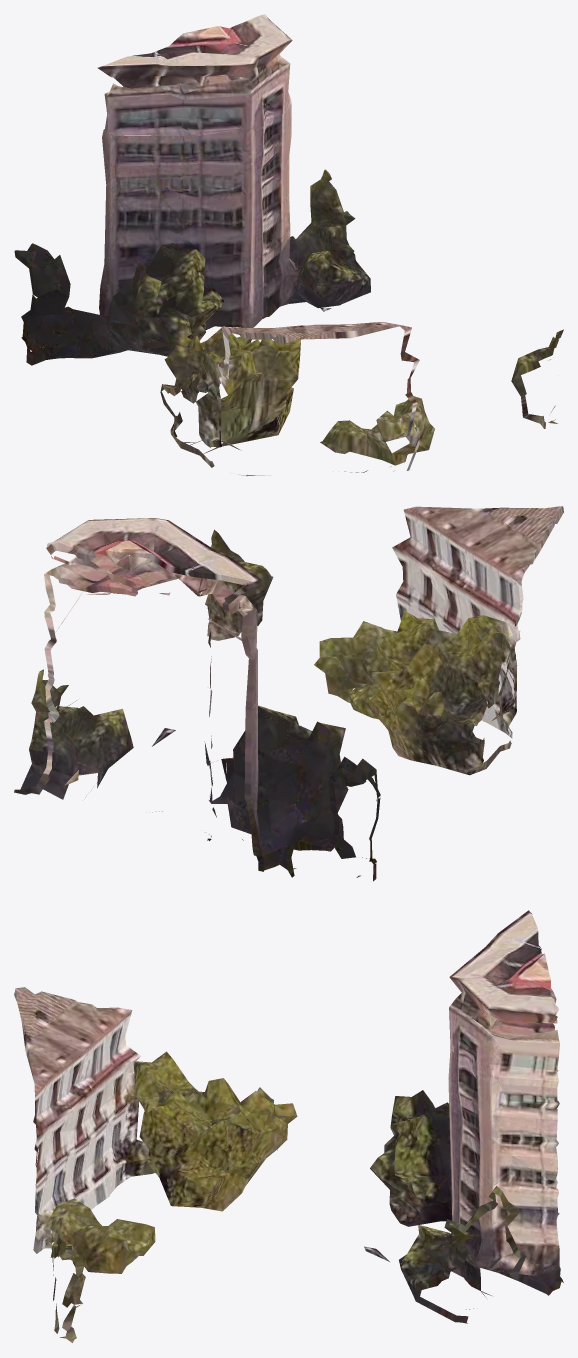
3 renders of one model, top to bottom at view 1: azimuth 30°, elevation 25°; view 2: azimuth 150°, elevation 25°; view 3: azimuth 270°, elevation 25°, orthographic. The views are drawn at different scales.
Visible parts, largest first — view 1: Mesh_0; view 2: Mesh_0; view 3: Mesh_0.
Boxes of the visible parts, box(x1,y1,x2,y2) form: Mesh_0: box(14, 14, 563, 476); Mesh_0: box(14, 506, 563, 881); Mesh_0: box(14, 910, 563, 1342).
Size of the model in its own units: 33.71 by 25.38 by 41.57.
2 materials, 2 textured.
